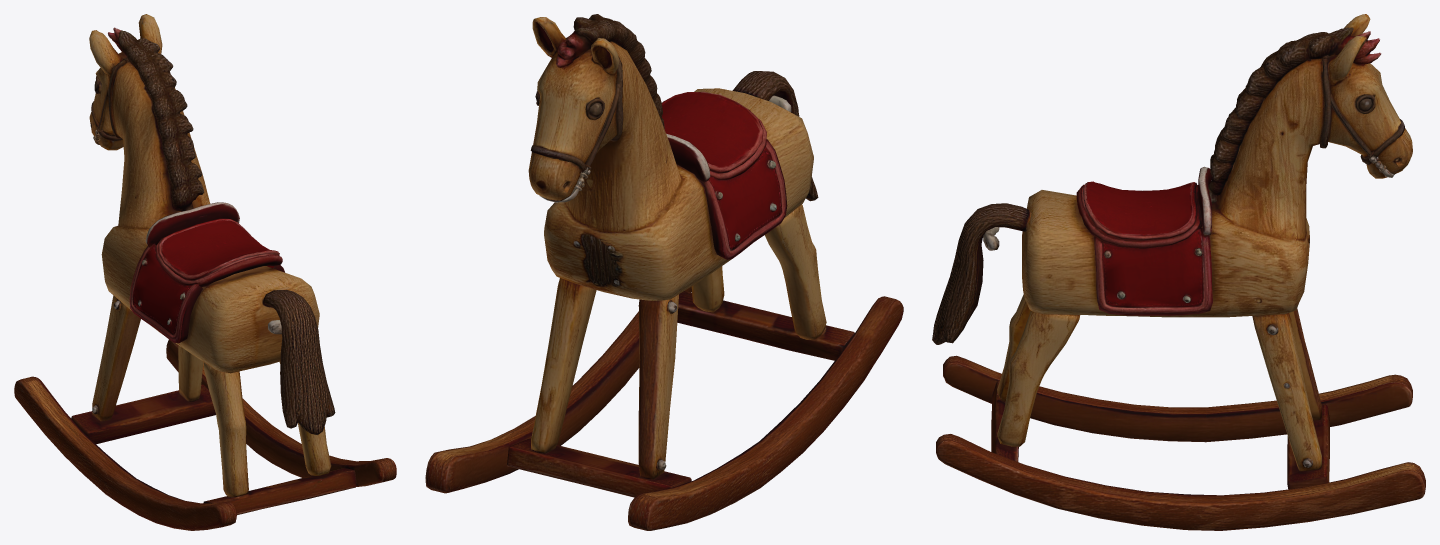
The model's file is prop-rocking-horse-v01.glb.
3 renders of one model, left to right at view 1: azimuth 30°, elevation 25°; view 2: azimuth 150°, elevation 25°; view 3: azimuth 270°, elevation 25°, orthographic. The views are drawn at different scales.
Parts seen in each view (by area): view 1: tripo_node_f285ed7c-22c7-4e29-adc9-f0470da0e9d8; view 2: tripo_node_f285ed7c-22c7-4e29-adc9-f0470da0e9d8; view 3: tripo_node_f285ed7c-22c7-4e29-adc9-f0470da0e9d8.
Part boxes in pixels (x1,y1,x2,y2): tripo_node_f285ed7c-22c7-4e29-adc9-f0470da0e9d8: (14, 14, 396, 530); tripo_node_f285ed7c-22c7-4e29-adc9-f0470da0e9d8: (425, 14, 903, 530); tripo_node_f285ed7c-22c7-4e29-adc9-f0470da0e9d8: (932, 14, 1425, 530).
Size of the model in its own units: 0.4365 by 0.9573 by 0.9348.
Materials: 1 (1 with a texture image).
